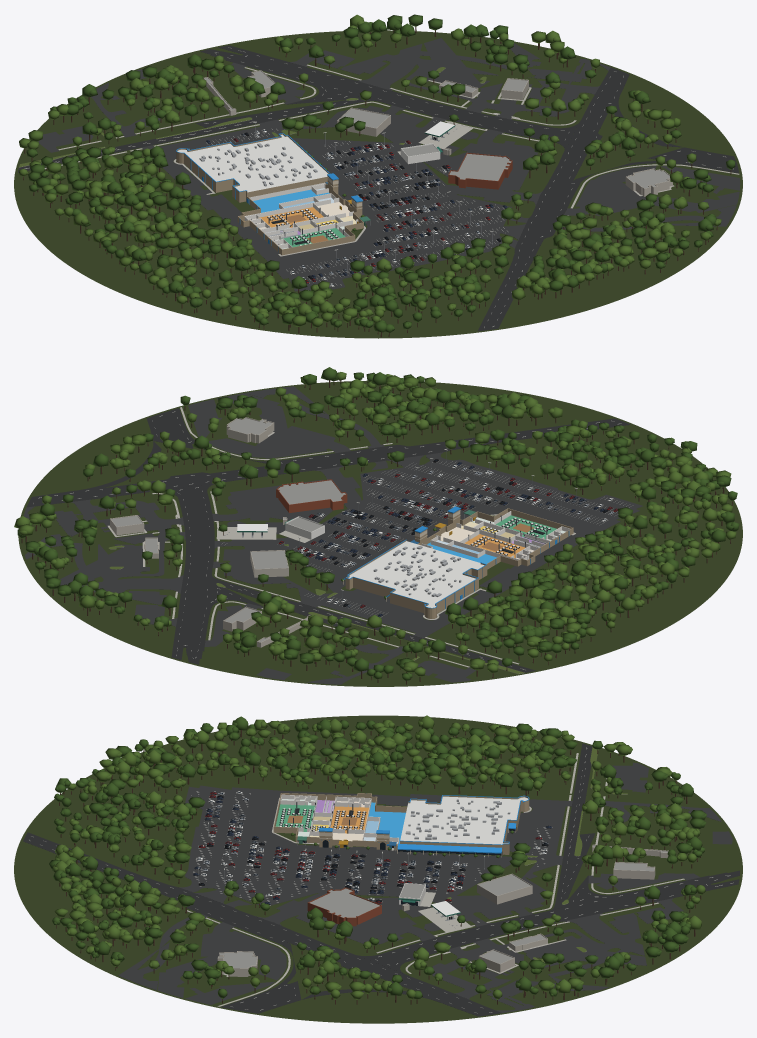
The model's file is sycamore_square_event_cutaway.glb.
3 views of the same model, one above another, from view 1: azimuth 30°, elevation 25°; view 2: azimuth 150°, elevation 25°; view 3: azimuth 270°, elevation 25° (orthographic).
Parts seen in each view (by area): view 1: ground, pavement, roads, trees3, trees6, trees1, trees4, trees7, trees0, main, trees2, trees5 (+15 smaller); view 2: ground, pavement, roads, trees6, trees3, trees1, trees4, trees7, main, trees0, trees5, trees2 (+17 smaller); view 3: ground, pavement, roads, trees6, trees3, trees1, trees4, trees7, trees0, main, trees5, trees2 (+21 smaller).
Part boxes in pixels (x1=…): ground: x1=14, y1=30, x2=742, y2=338; pavement: x1=37, y1=38, x2=740, y2=291; roads: x1=18, y1=45, x2=739, y2=331; trees3: x1=28, y1=14, x2=708, y2=333; trees6: x1=73, y1=14, x2=713, y2=315; trees1: x1=66, y1=21, x2=716, y2=337; trees4: x1=19, y1=31, x2=689, y2=332; trees7: x1=47, y1=22, x2=735, y2=328; trees0: x1=26, y1=49, x2=713, y2=336; main: x1=176, y1=133, x2=329, y2=202; trees2: x1=18, y1=37, x2=713, y2=329; trees5: x1=40, y1=29, x2=721, y2=334; ground: x1=18, y1=380, x2=742, y2=686; pavement: x1=23, y1=386, x2=642, y2=684; roads: x1=27, y1=408, x2=630, y2=672; trees6: x1=14, y1=367, x2=725, y2=678; trees3: x1=19, y1=375, x2=731, y2=679; trees1: x1=50, y1=374, x2=734, y2=660; trees4: x1=45, y1=372, x2=733, y2=681; trees7: x1=17, y1=384, x2=739, y2=659; main: x1=345, y1=540, x2=487, y2=618; trees0: x1=41, y1=372, x2=736, y2=677; trees5: x1=35, y1=372, x2=706, y2=684; trees2: x1=30, y1=376, x2=732, y2=682; ground: x1=14, y1=715, x2=742, y2=1023; pavement: x1=118, y1=762, x2=732, y2=1012; roads: x1=23, y1=743, x2=739, y2=1016; trees6: x1=52, y1=715, x2=702, y2=1002; trees3: x1=49, y1=723, x2=706, y2=999; trees1: x1=52, y1=719, x2=699, y2=996; trees4: x1=54, y1=719, x2=690, y2=1004; trees7: x1=61, y1=720, x2=705, y2=1004; trees0: x1=55, y1=722, x2=687, y2=1003; main: x1=400, y1=795, x2=529, y2=855; trees5: x1=53, y1=723, x2=705, y2=998; trees2: x1=52, y1=724, x2=700, y2=999.
Size of the model in its own units: 520 by 17.39 by 520.
